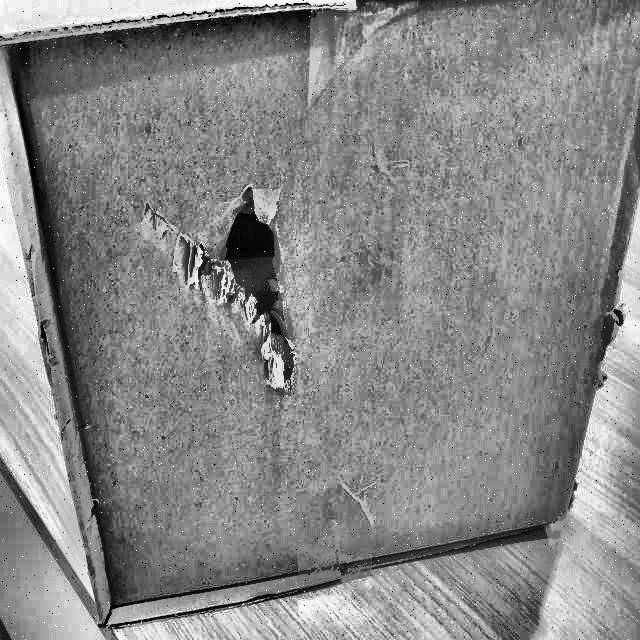box: (0, 0, 639, 635)
hole: (141, 191, 297, 393)
